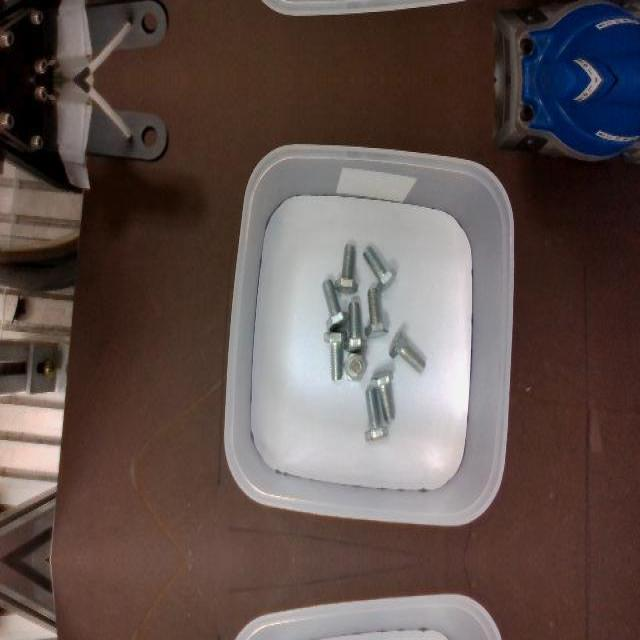screw: (388, 329, 426, 373), (362, 245, 396, 291), (322, 278, 349, 330), (362, 389, 388, 441), (370, 370, 395, 422), (364, 288, 388, 338), (335, 243, 358, 293), (324, 328, 347, 378), (344, 300, 367, 350), (342, 352, 366, 382)
